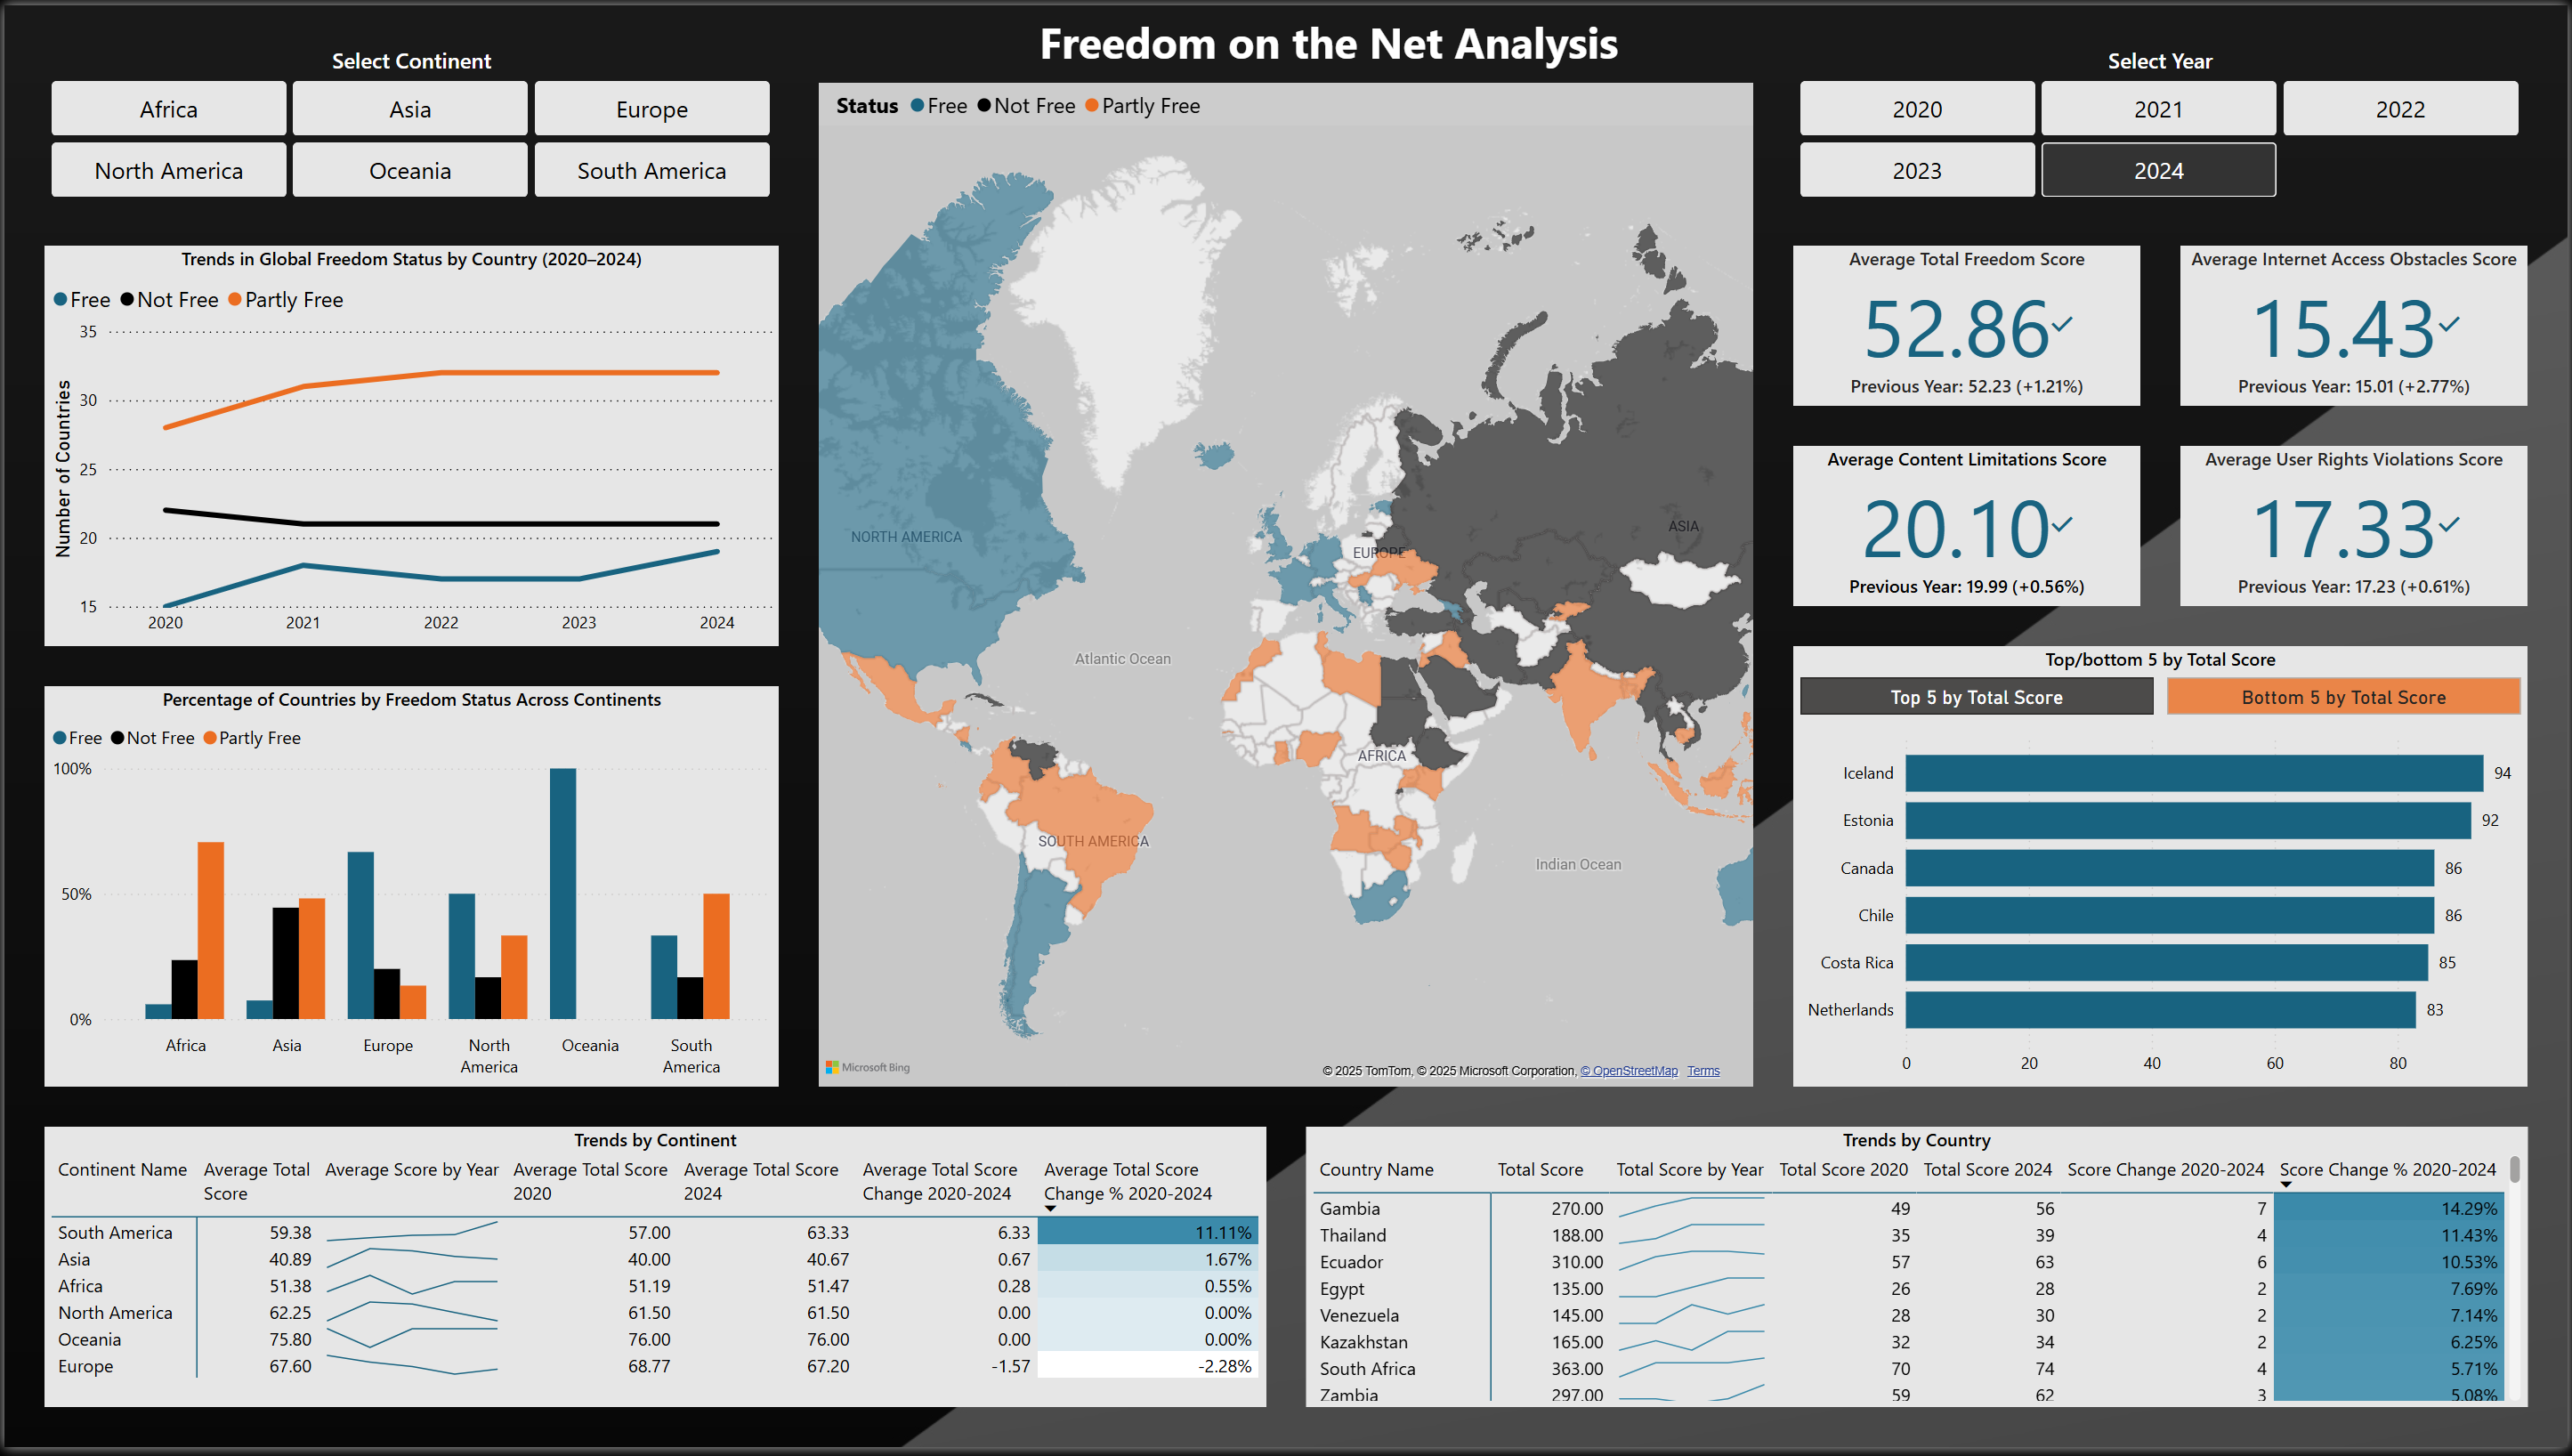

What the dashboard file says about the page in this screenshot:
{"tool":"powerbi","page":{"name":"FOTN analysis","canvas":[1920,1080],"ordinal":0},"visuals":[{"type":"lineChart","title":"Trends in Global Freedom Status by Country (2020–2024)","fields":{"Series":["2019-2024 Score Data.Status"],"Category":["Calendar.Year"],"Y":["Measure Table.Countries by Status"]},"box":[30,180,550,300],"z":0},{"type":"clusteredBarChart","fields":{"Y":["Measure Table.Top 5 Score (by total score)"],"Category":["CountryLookup.CountryName"]},"box":[1340,533.8,550,276.2],"z":1000},{"type":"pivotTable","title":"Trends by Country","fields":{"Rows":["CountryLookup.CountryName"],"Values":["Measure Table.Total Score","SparklineData(Measure Table.Total Score_[Calendar.Year])","Measure Table.Score 2019","Measure Table.Score 2024","Measure Table.Score Change 2019-2024","Measure Table.Score Change % 2019-2024"]},"box":[975,840,915,210],"z":2000},{"type":"clusteredColumnChart","title":"Percentage of Countries by Freedom Status Across Continents","fields":{"Category":["ContinentLookup. ContinentName"],"Y":["Measure Table.% of countries"],"Series":["2019-2024 Score Data.Status"]},"box":[30,510,550,300],"z":3000},{"type":"pivotTable","title":"Trends by Continent","fields":{"Rows":["ContinentLookup. ContinentName"],"Values":["Measure Table.Average Score","SparklineData(Measure Table.Average Score_[Calendar.Year(Date)])","Measure Table.Average Score 2019","Measure Table.Average Score 2024","Measure Table.Average Score Change 2019-2024","Measure Table.Average Score Change % 2019-2024"]},"box":[30,840,915,210],"z":4000},{"type":"filledMap","fields":{"Category":["CountryLookup.CountryName"],"Series":["2019-2024 Score Data.Status"]},"box":[610,57.5,700,752.5],"z":5000},{"type":"advancedSlicerVisual","title":"Top/bottom 5 by Total Score","fields":{"Values":["Top/bottom 5.Top/bottom 5"]},"box":[1340,480,550,53.8],"z":7000},{"type":"kpi","title":"Average Internet Access Obstacles Score","fields":{"TrendLine":["Calendar.Year(Date)"],"Indicator":["Measure Table.Average A Score"],"Goal":["Measure Table.Average A Score Previous Year"]},"box":[1630,180,260,120],"z":8000},{"type":"advancedSlicerVisual","title":"Select Continent","fields":{"Values":["ContinentLookup. ContinentName"]},"box":[30,30,550,120],"z":9000},{"type":"textbox","box":[685,0,613.8,60],"z":10000},{"type":"kpi","title":"Average Total Freedom Score","fields":{"TrendLine":["Calendar.Year(Date)"],"Goal":["Measure Table.Average Total Score Previous Year"],"Indicator":["Measure Table.Average Total Score"]},"box":[1340,180,260,120],"z":11000},{"type":"kpi","title":"Average Content Limitations Score","fields":{"TrendLine":["Calendar.Year(Date)"],"Goal":["Measure Table.Average B Score Previous Year"],"Indicator":["Measure Table.Average B Score"]},"box":[1340,330,260,120],"z":12000},{"type":"kpi","title":"Average User Rights Violations Score","fields":{"TrendLine":["Calendar.Year(Date)"],"Goal":["Measure Table.Average C Score Previous Year"],"Indicator":["Measure Table.Average C Score"]},"box":[1630,330,260,120],"z":13000},{"type":"advancedSlicerVisual","title":"Select Year","fields":{"Values":["Calendar.Year(Date)"]},"box":[1340,30,550,120],"z":14000}]}

Visuals, with their boxes in screenshot pixels (x1, y1, x2, y2), scaled from the page's 1920x1080 canvas onto the 2572x1456 screenshot:
"Trends in Global Freedom Status by Country (2020–2024)" lineChart: 40,243,777,647
clusteredBarChart - Measure Table.Top 5 Score (by total score) x CountryLookup.CountryName: 1795,720,2532,1092
"Trends by Country" pivotTable: 1306,1132,2532,1416
"Percentage of Countries by Freedom Status Across Continents" clusteredColumnChart: 40,688,777,1092
"Trends by Continent" pivotTable: 40,1132,1266,1416
filledMap - CountryLookup.CountryName x 2019-2024 Score Data.Status: 817,77,1755,1092
"Top/bottom 5 by Total Score" advancedSlicerVisual: 1795,647,2532,720
"Average Internet Access Obstacles Score" kpi: 2183,243,2532,404
"Select Continent" advancedSlicerVisual: 40,40,777,202
textbox: 918,0,1740,81
"Average Total Freedom Score" kpi: 1795,243,2143,404
"Average Content Limitations Score" kpi: 1795,445,2143,607
"Average User Rights Violations Score" kpi: 2183,445,2532,607
"Select Year" advancedSlicerVisual: 1795,40,2532,202
